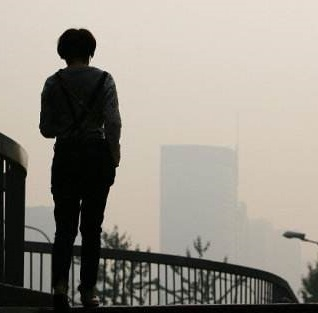person: (37, 27, 123, 307)
